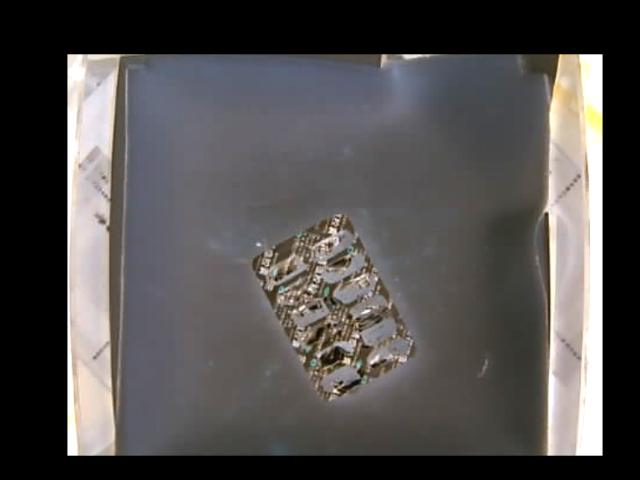Medicine: (249, 214, 415, 399)
